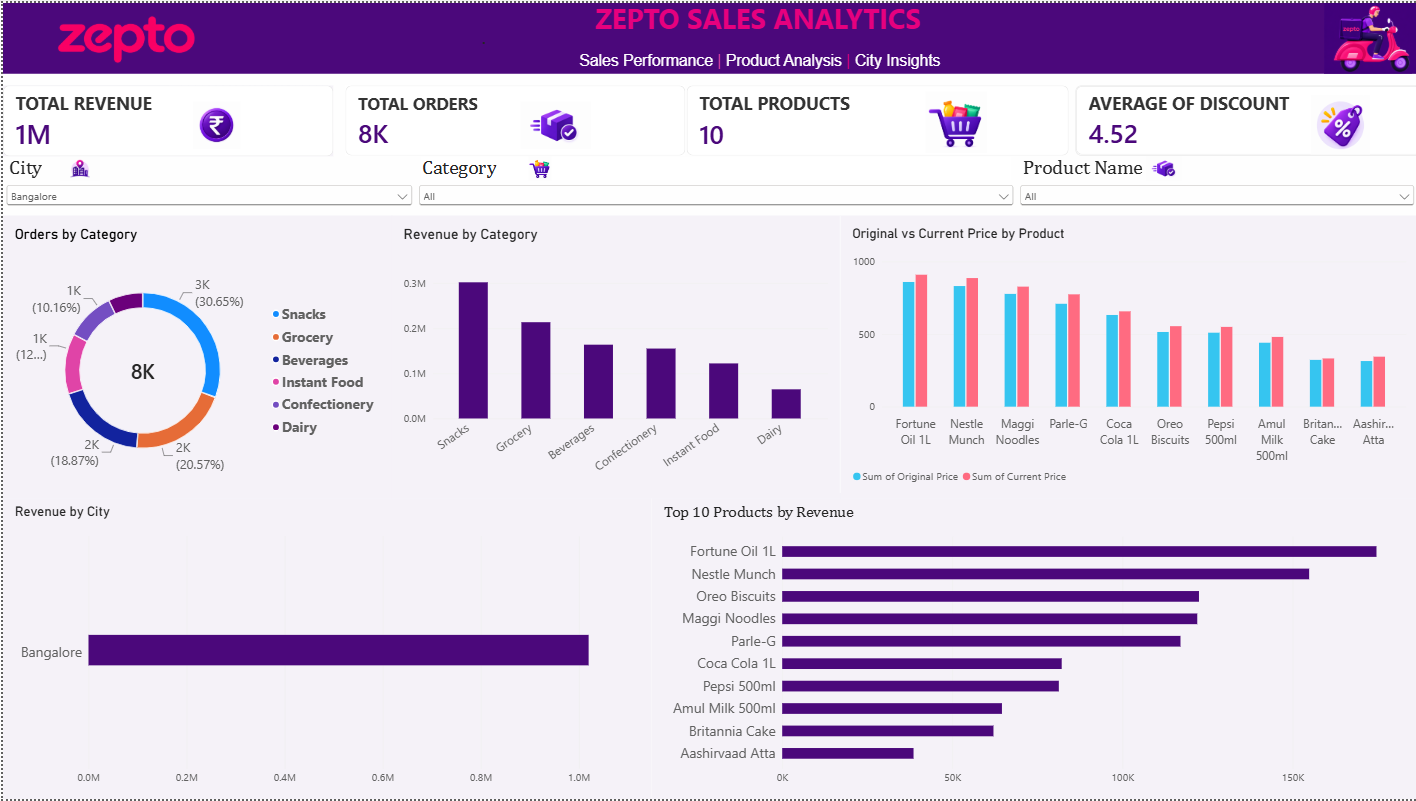

Layout of this report page (visuals, bound fields, positions):
{"tool":"powerbi","page":{"name":"Page 1","canvas":[1920,1080],"ordinal":0},"visuals":[{"type":"clusteredBarChart","title":"Revenue by City","fields":{"Category":["zepto_sales_dataset.City"],"Y":["Sum(zepto_sales_dataset.Total Revenue)"]},"box":[0,664,880,416],"z":0},{"type":"barChart","title":"Top 10 Products by Revenue","fields":{"Category":["zepto_sales_dataset.Product Name"],"Y":["Sum(zepto_sales_dataset.Total Revenue)"]},"box":[880,664,1040,416],"z":1000},{"type":"donutChart","title":"Orders by Category","fields":{"Category":["zepto_sales_dataset.Category"],"Y":["Sum(zepto_sales_dataset.Orders)"]},"box":[0,288,528,384],"z":2000},{"type":"clusteredColumnChart","title":"Original vs Current Price by Product","fields":{"Category":["zepto_sales_dataset.Product Name"],"Y":["Sum(zepto_sales_dataset.Original Price)","Sum(zepto_sales_dataset.Current Price)"]},"box":[1136,288,784,384],"z":3000},{"type":"clusteredColumnChart","title":"Revenue by Category","fields":{"Category":["zepto_sales_dataset.Category"],"Y":["Sum(zepto_sales_dataset.Total Revenue)"]},"box":[528,288,608,384],"z":4000},{"type":"cardVisual","fields":{"Data":["Sum(zepto_sales_dataset.Orders)"]},"box":[464,112,461.4,95.5],"z":5000},{"type":"cardVisual","fields":{"Data":["Count(zepto_sales_dataset.Product Name)"]},"box":[928,112,518.2,95.5],"z":6000},{"type":"cardVisual","fields":{"Data":["Avg(zepto_sales_dataset.Discount)"]},"box":[1456,112,470.5,95.5],"z":7000},{"type":"slicer","fields":{"Values":["zepto_sales_dataset.Category"]},"box":[560,208,816,80],"z":8000},{"type":"slicer","fields":{"Values":["zepto_sales_dataset.Product Name"]},"box":[1376,208,544,80],"z":9000},{"type":"cardVisual","fields":{"Data":["Sum(zepto_sales_dataset.Total Revenue)"]},"box":[0,112,448,96],"z":10000},{"type":"textbox","box":[0,0,1920,96],"z":11000},{"type":"image","box":[230,134,118,64],"z":12000},{"type":"image","box":[654,134,190,64],"z":13000},{"type":"image","box":[1244,120,101,83],"z":14000},{"type":"image","box":[1756,126,118,80],"z":15000},{"type":"image","box":[1552,208,48,32],"z":16000},{"type":"image","box":[688,208,80,32],"z":17000},{"type":"image","box":[0,0,336,96],"z":18000},{"type":"image","box":[1792,0,128,96],"z":19000},{"type":"slicer","fields":{"Values":["zepto_sales_dataset.City"]},"box":[0,208,560,80],"z":20000},{"type":"image","box":[64,208,80,32],"z":21000}]}

Visuals, with their boxes in screenshot pixels (x1, y1, x2, y2), scaled from the page's 1920x1080 canvas onto the 1416x801 screenshot:
"Revenue by City" clusteredBarChart: <region>0, 492, 649, 800</region>
"Top 10 Products by Revenue" barChart: <region>649, 492, 1415, 800</region>
"Orders by Category" donutChart: <region>0, 214, 389, 498</region>
"Original vs Current Price by Product" clusteredColumnChart: <region>838, 214, 1415, 498</region>
"Revenue by Category" clusteredColumnChart: <region>389, 214, 838, 498</region>
cardVisual - Sum(zepto_sales_dataset.Orders): <region>342, 83, 682, 154</region>
cardVisual - Count(zepto_sales_dataset.Product Name): <region>684, 83, 1067, 154</region>
cardVisual - Avg(zepto_sales_dataset.Discount): <region>1074, 83, 1415, 154</region>
slicer - zepto_sales_dataset.Category: <region>413, 154, 1015, 214</region>
slicer - zepto_sales_dataset.Product Name: <region>1015, 154, 1415, 214</region>
cardVisual - Sum(zepto_sales_dataset.Total Revenue): <region>0, 83, 330, 154</region>
textbox: <region>0, 0, 1415, 71</region>
image: <region>170, 99, 257, 147</region>
image: <region>482, 99, 622, 147</region>
image: <region>917, 89, 992, 151</region>
image: <region>1295, 93, 1382, 153</region>
image: <region>1145, 154, 1180, 178</region>
image: <region>507, 154, 566, 178</region>
image: <region>0, 0, 248, 71</region>
image: <region>1322, 0, 1415, 71</region>
slicer - zepto_sales_dataset.City: <region>0, 154, 413, 214</region>
image: <region>47, 154, 106, 178</region>
